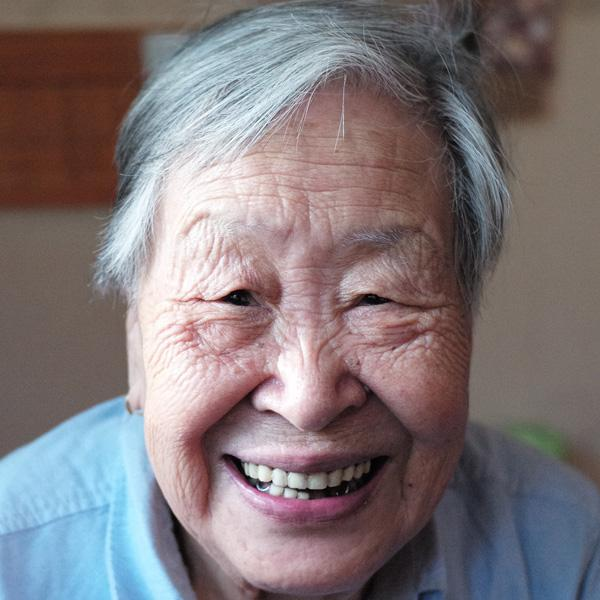Eyes: (188, 265, 279, 329), (333, 268, 424, 328)
